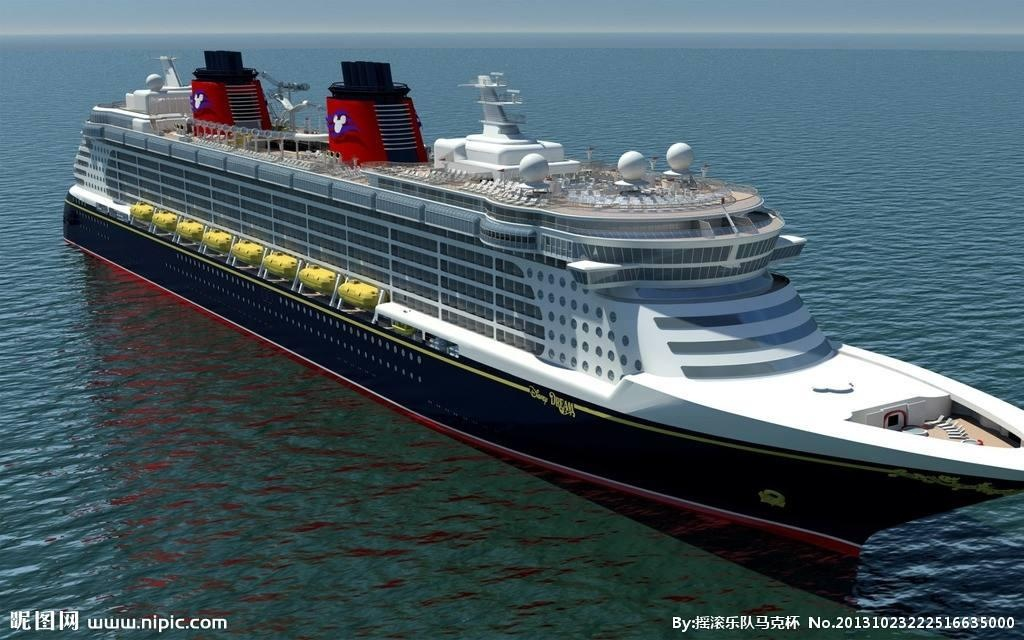youlun: (57, 35, 1024, 558)
